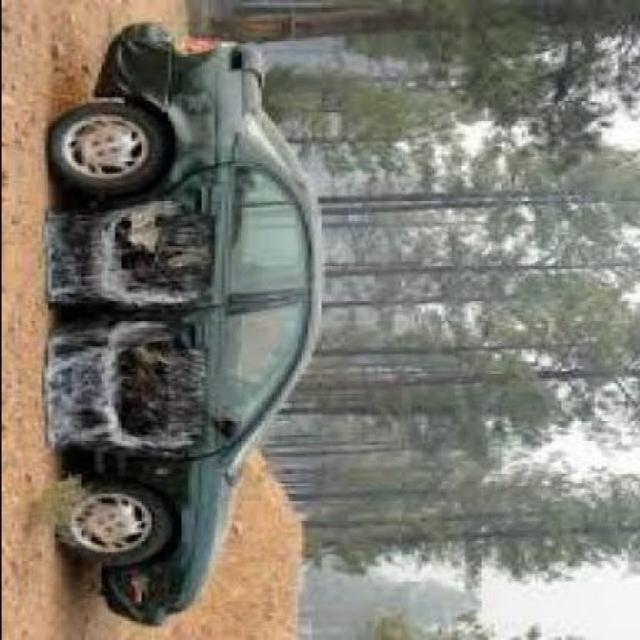damage: (48, 169, 217, 454)
